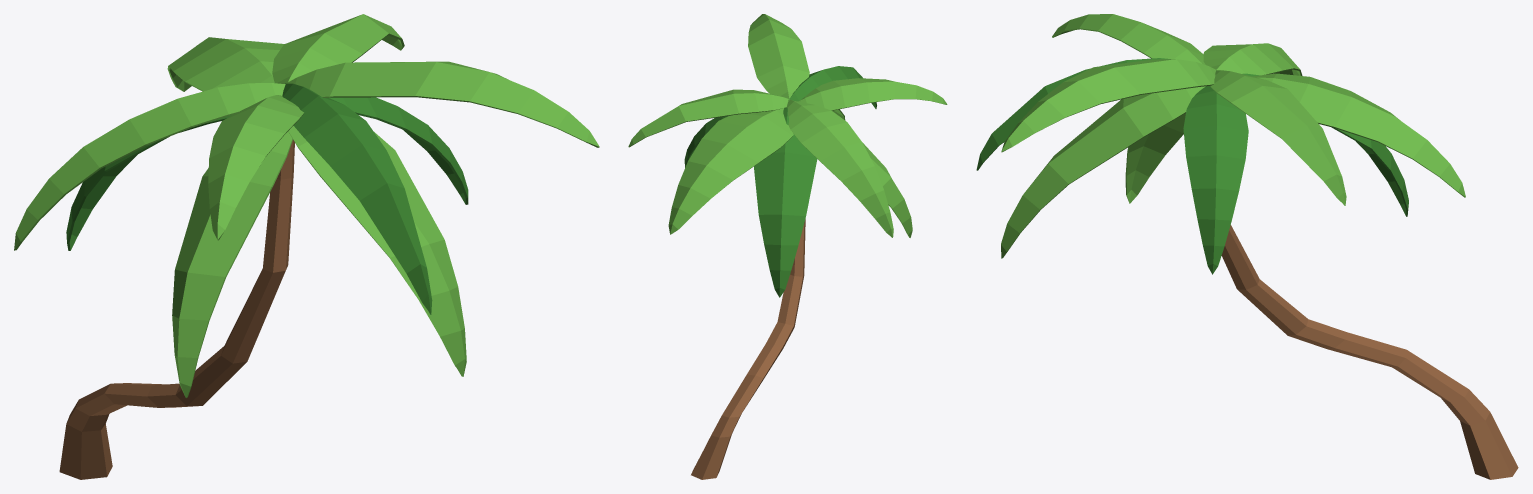
The model's file is nature-palmtree-2.glb.
3 views of the same model, side by side, from view 1: azimuth 30°, elevation 25°; view 2: azimuth 150°, elevation 25°; view 3: azimuth 270°, elevation 25° (orthographic). The views are drawn at different scales.
Visible parts, largest first — view 1: PalmTree_2; view 2: PalmTree_2; view 3: PalmTree_2.
Part boxes in pixels (x1,y1,x2,y2): PalmTree_2: (14, 14, 599, 479); PalmTree_2: (628, 14, 947, 479); PalmTree_2: (976, 14, 1518, 479).
Bounding box in the file's own units: 232 × 291 × 318.
